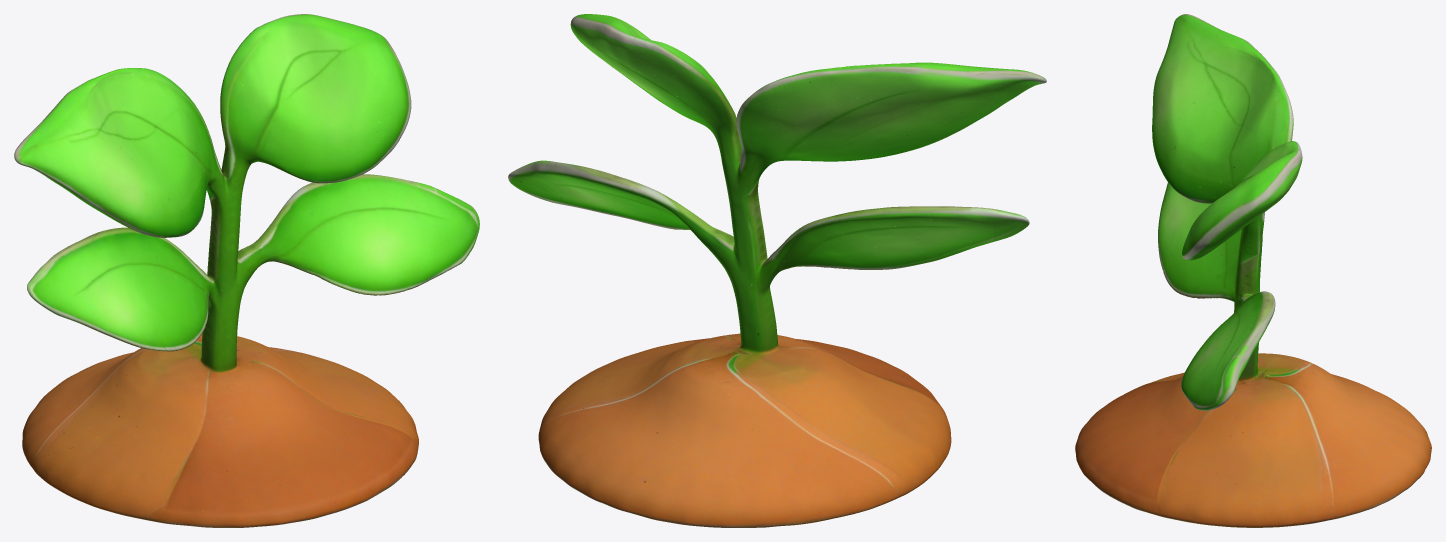
File: Plant.fbx
3 renders of one model, left to right at view 1: azimuth 30°, elevation 25°; view 2: azimuth 150°, elevation 25°; view 3: azimuth 270°, elevation 25°, orthographic. The views are drawn at different scales.
Parts seen in each view (by area): view 1: Mesh_0; view 2: Mesh_0; view 3: Mesh_0.
Boxes of the visible parts, x1,y1,x2,y2 form: Mesh_0: [14, 14, 479, 527]; Mesh_0: [508, 14, 1046, 527]; Mesh_0: [1075, 14, 1431, 527].
Bounding box in the file's own units: 201 × 156 × 144.
1 material, 1 textured.
